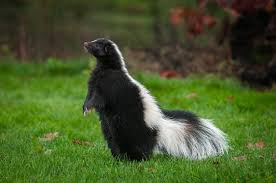skunk: (81, 37, 230, 160)
